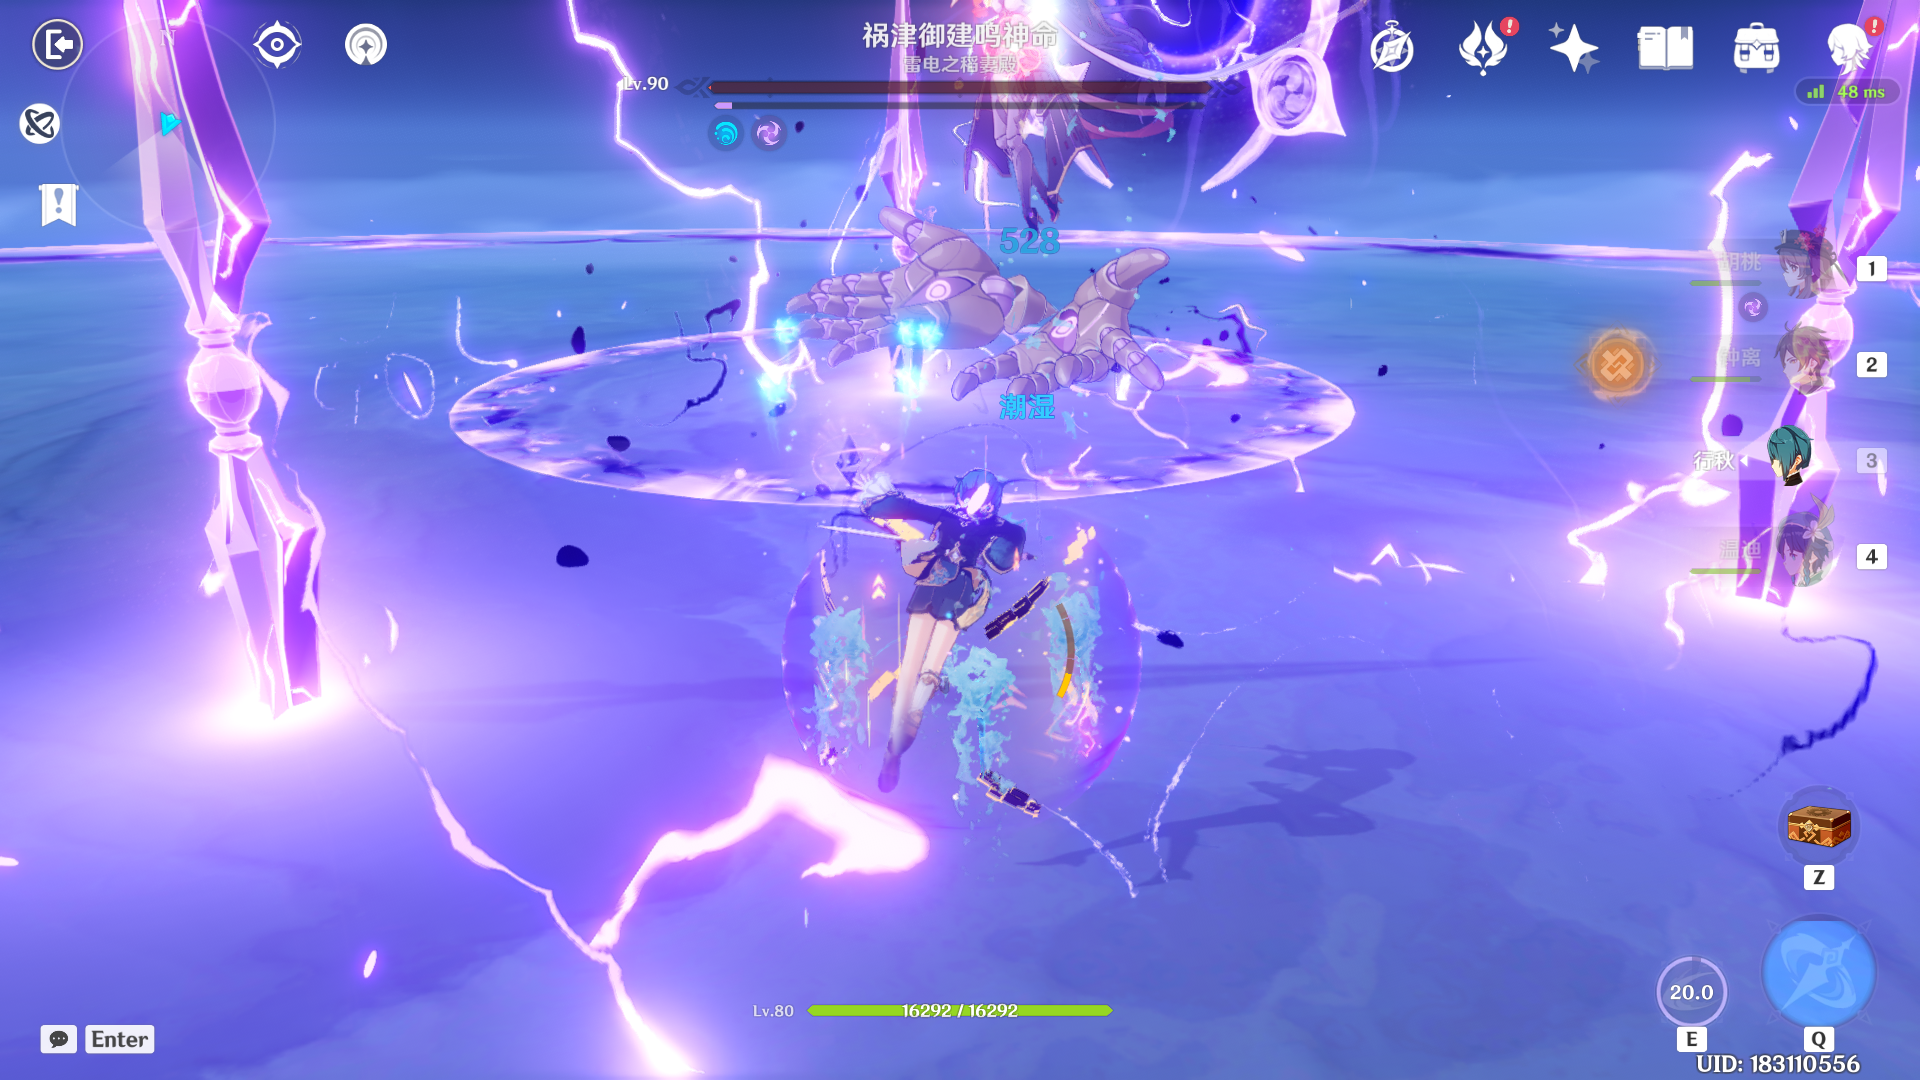character: (775, 419, 1091, 884)
